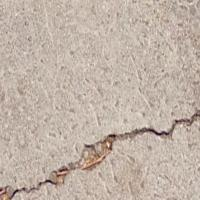crack: (35, 118, 199, 194)
